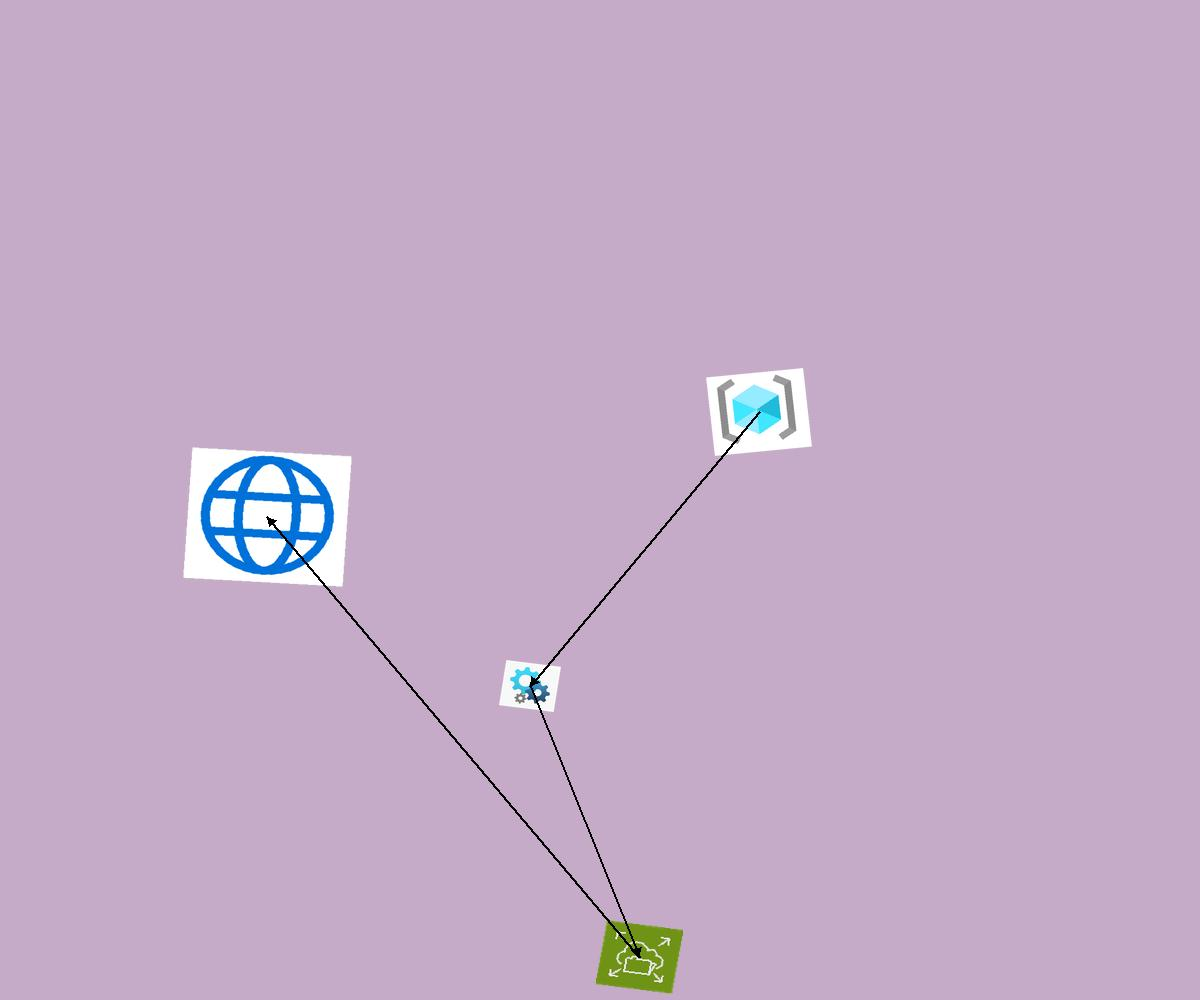AWS-EFS: (595, 920, 684, 994)
Azure_api: (499, 660, 561, 712)
Azure_http: (183, 447, 352, 587)
Azure_resource_group: (706, 368, 812, 456)
